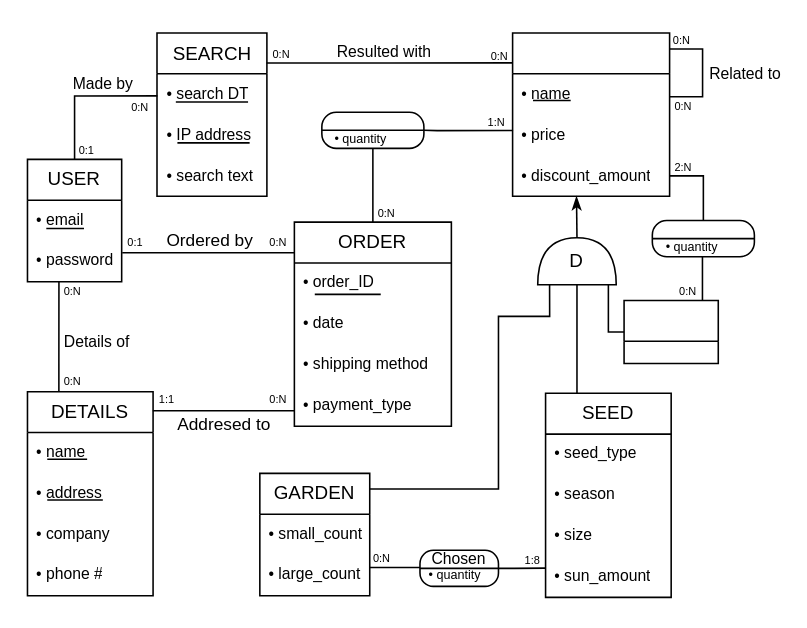
The diagram is 807 pixels wide and 628 high, and some of its shapes have lost their labels. The box of each missing label's shape, as (x1, y1, x2, y2) in pixels:
Added: (320, 111, 424, 148)
BUNDLE: (623, 299, 718, 363)
Includes: (651, 219, 754, 257)
PRODUCT: (511, 31, 670, 196)
